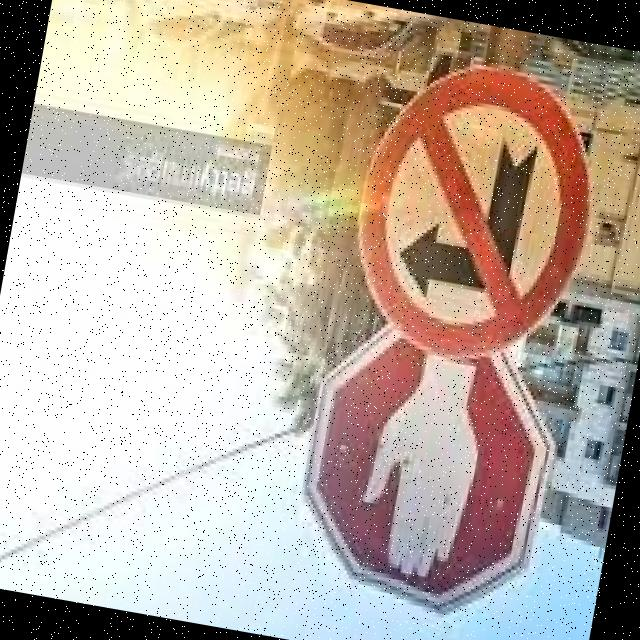do_not_turn_right: (334, 45, 617, 384)
